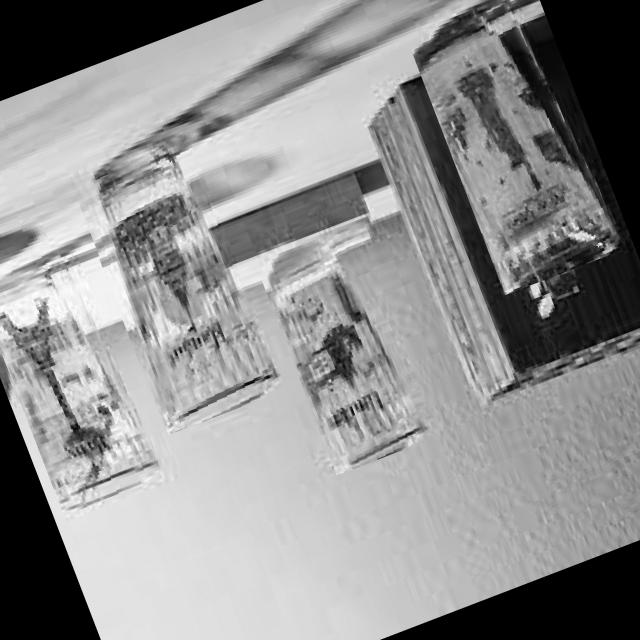Glass: (66, 134, 284, 436), (406, 0, 626, 294), (0, 242, 166, 515), (255, 228, 431, 474)
